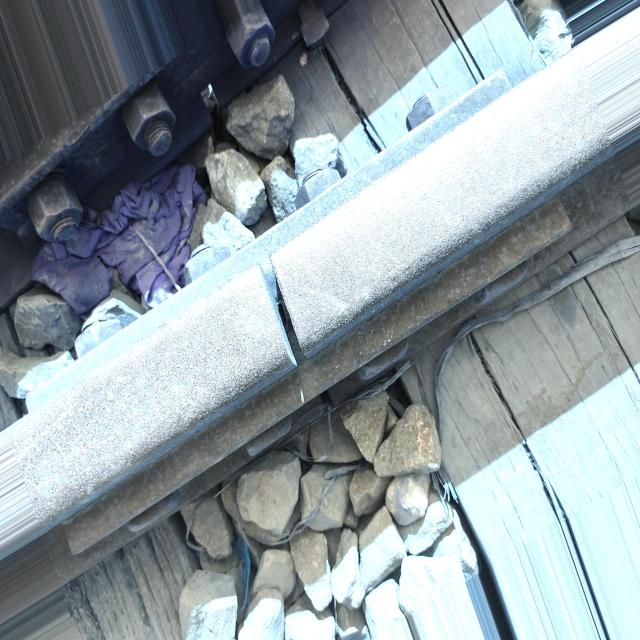crack: (224, 231, 370, 399)
